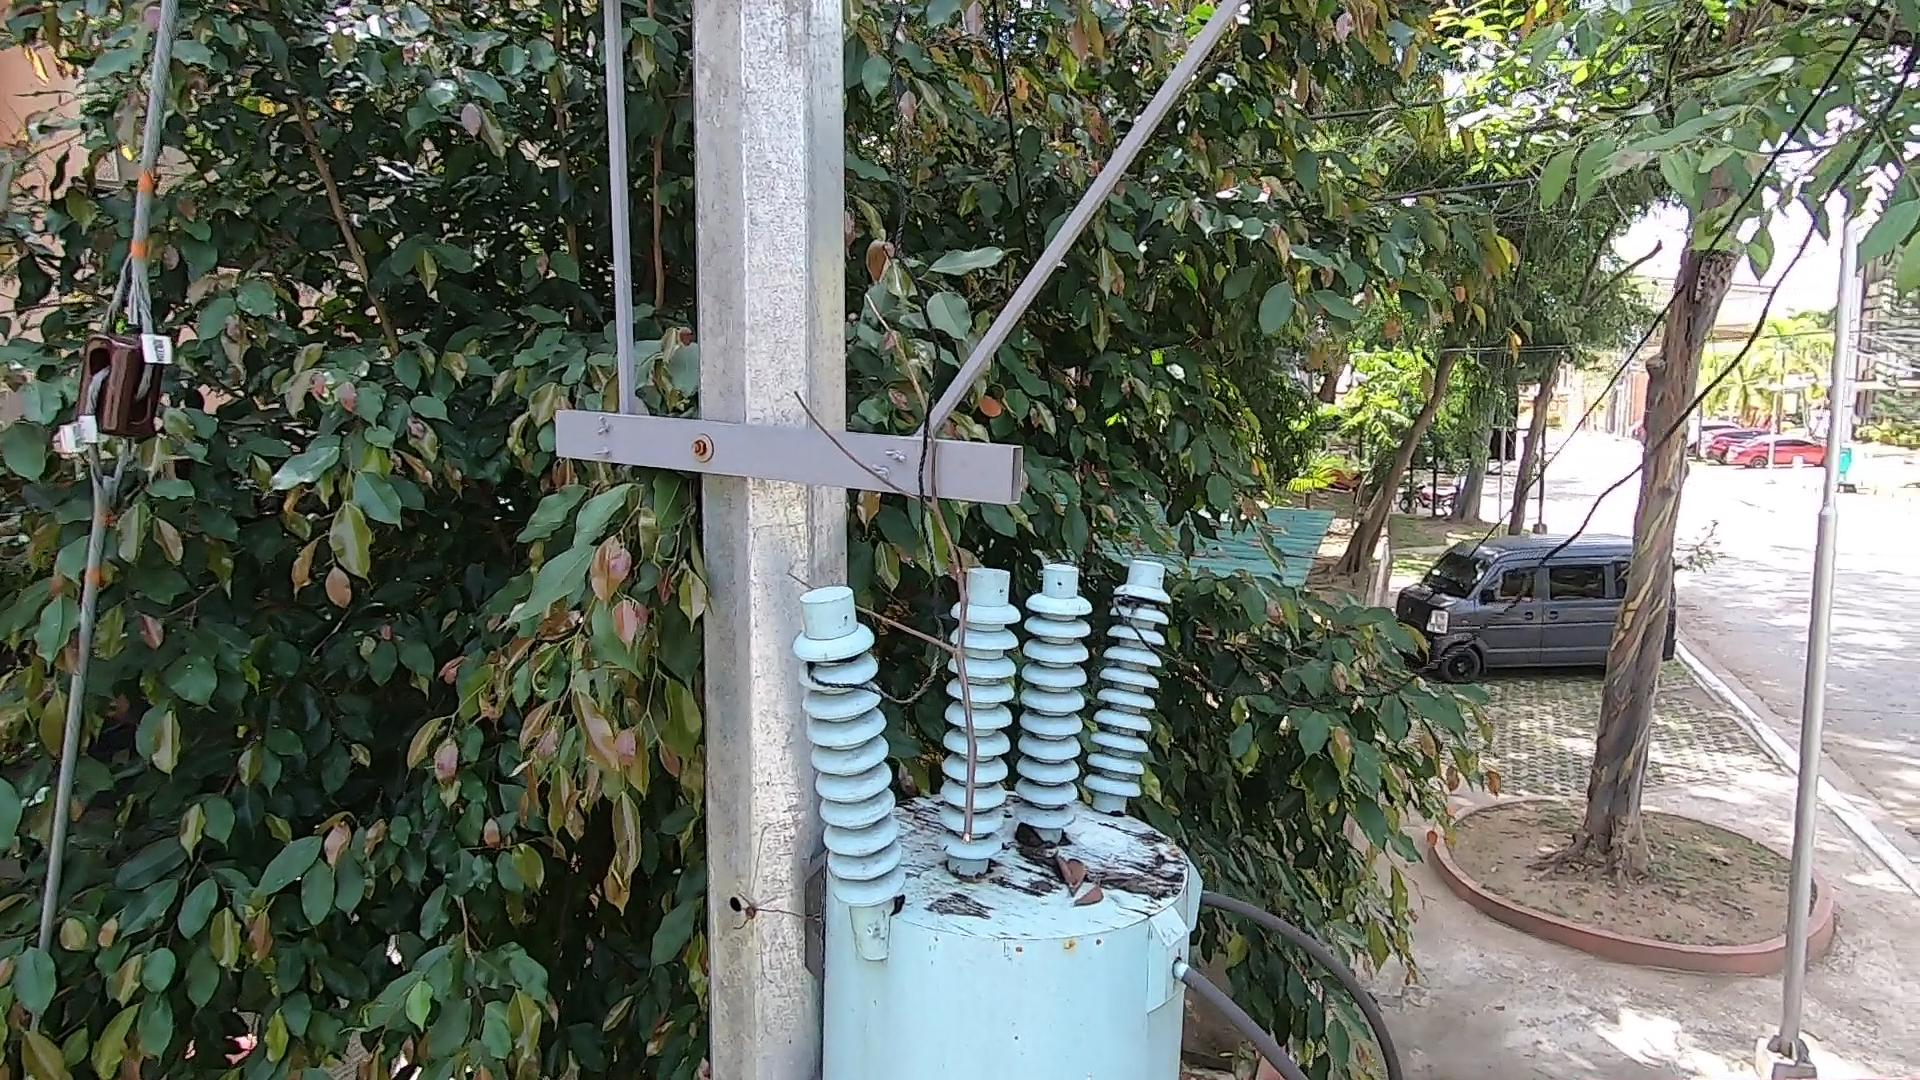leaf: (1017, 807, 1113, 907)
tree branch: (786, 280, 1019, 852)
